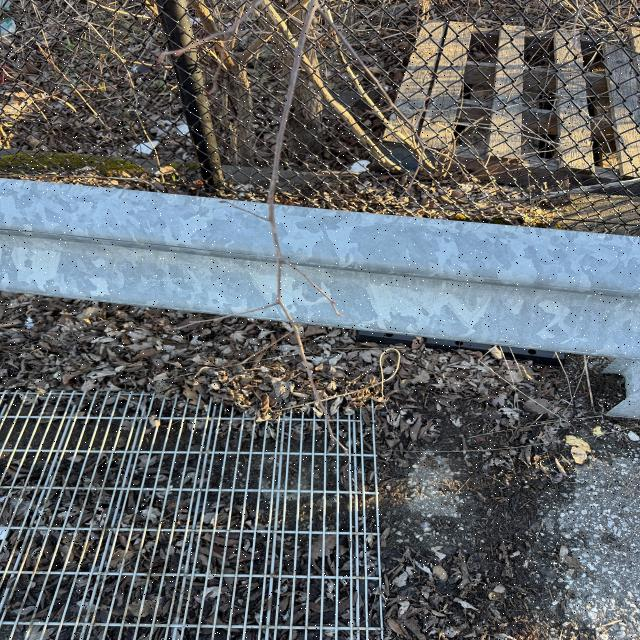Guard rail: (8, 191, 620, 347)
